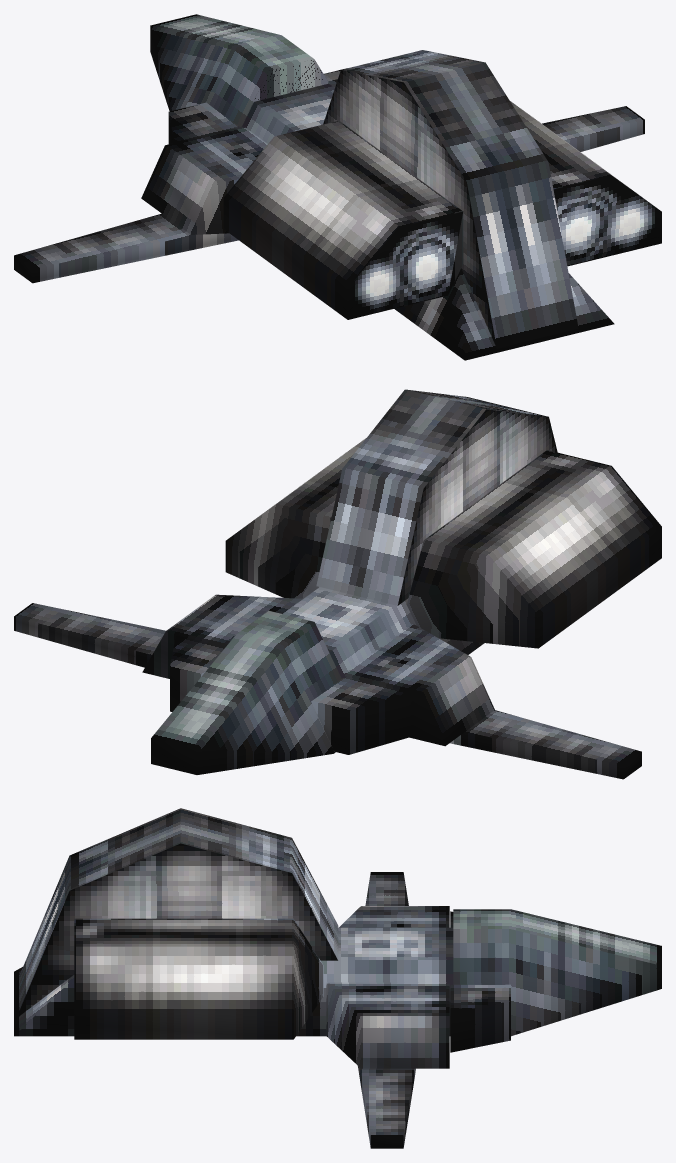
The model's file is ttendshuttle_3db.gltf.
3 renders of one model, top to bottom at view 1: azimuth 30°, elevation 25°; view 2: azimuth 150°, elevation 25°; view 3: azimuth 270°, elevation 25°, orthographic. The views are drawn at different scales.
Visible parts, largest first — view 1: ttendshuttle.3db; view 2: ttendshuttle.3db; view 3: ttendshuttle.3db.
Boxes of the visible parts, <box> form: ttendshuttle.3db: <box>14,14,661,360</box>; ttendshuttle.3db: <box>14,389,661,779</box>; ttendshuttle.3db: <box>14,808,661,1148</box>.
Bounding box in the file's own units: 2.66 × 0.892 × 2.75.
2 materials, 2 textured.
